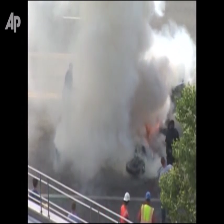smoke: (79, 9, 153, 160)
